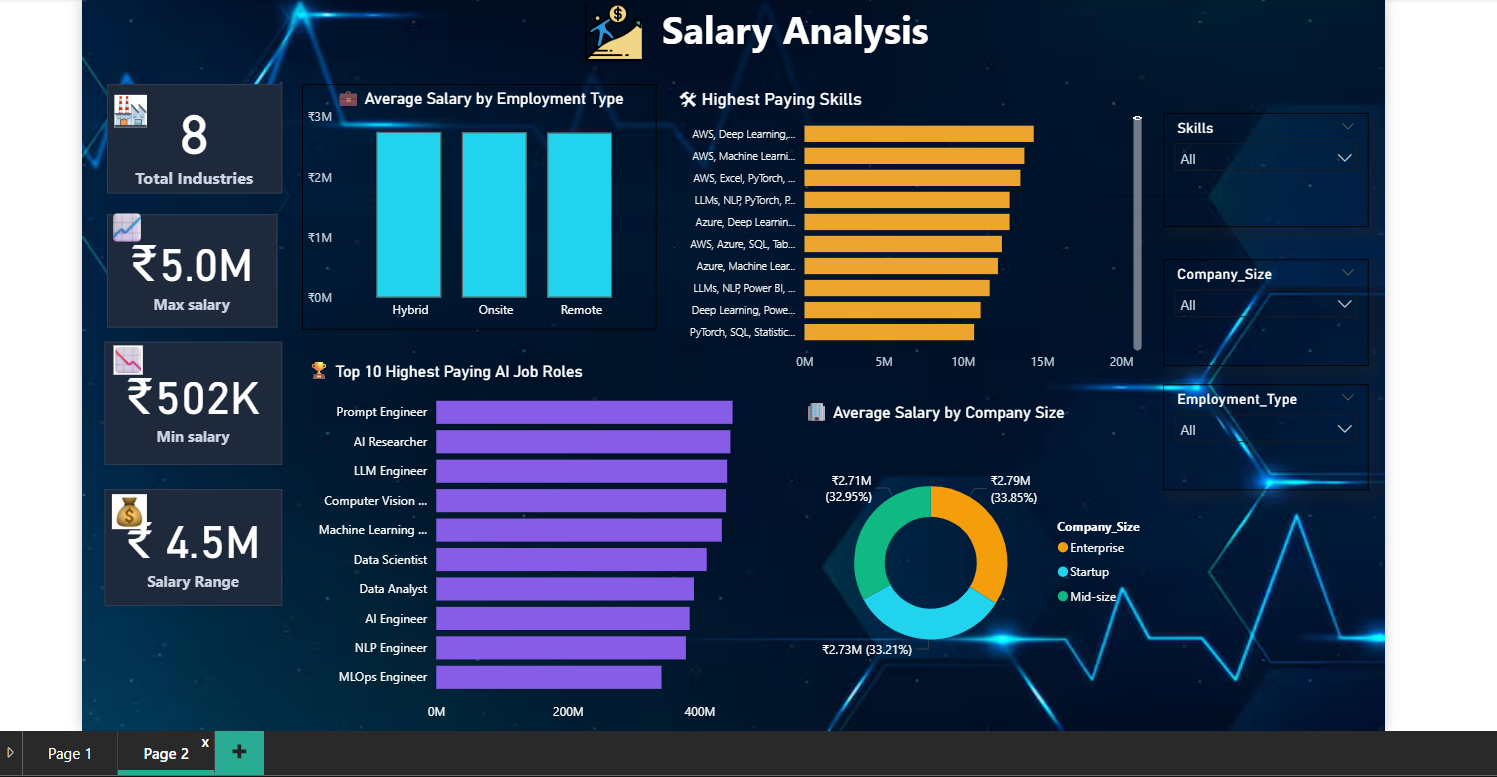

Layout of this report page (visuals, bound fields, positions):
{"tool":"powerbi","page":{"name":"Page 2","canvas":[1280,720],"ordinal":1},"visuals":[{"type":"textbox","box":[564.4,0,319,61.4],"z":0},{"type":"image","box":[487.1,0,68.7,67.5],"z":1000},{"type":"card","fields":{"Values":["AI_Job_Market_No_Duplicates_1500_Rows.Max salary"]},"box":[24.2,212.7,166.9,110.8],"z":2000},{"type":"card","fields":{"Values":["AI_Job_Market_No_Duplicates_1500_Rows.Min salary"]},"box":[21.7,337.6,174.5,121],"z":3000},{"type":"card","fields":{"Values":["AI_Job_Market_No_Duplicates_1500_Rows.Salary Range"]},"box":[21.7,482.8,174.5,114.7],"z":4000},{"type":"card","fields":{"Values":["AI_Job_Market_No_Duplicates_1500_Rows.Total Industries"]},"box":[24.2,84.1,172,107],"z":5000},{"type":"image","box":[21.7,205.1,44.6,40.8],"z":6000},{"type":"image","box":[24.2,336.3,42,38.2],"z":7000},{"type":"image","box":[24.5,482.2,44.2,44.2],"z":8000},{"type":"image","box":[26.8,84.1,42,53.5],"z":9000},{"type":"clusteredColumnChart","title":"💼 Average Salary by Employment Type","fields":{"Category":["AI_Job_Market_No_Duplicates_1500_Rows.Employment_Type"],"Y":["AI_Job_Market_No_Duplicates_1500_Rows.Avg Salary"]},"box":[216.6,84.1,347.8,240.8],"z":10000},{"type":"clusteredBarChart","title":"🛠 Highest Paying Skills","fields":{"Category":["AI_Job_Market_No_Duplicates_1500_Rows.Skills"],"Y":["Sum(AI_Job_Market_No_Duplicates_1500_Rows.Salary_INR)"]},"box":[580.9,84.1,465,290.4],"z":11000},{"type":"donutChart","title":"🏢 Average Salary by Company Size","fields":{"Category":["AI_Job_Market_No_Duplicates_1500_Rows.Company_Size"],"Y":["Sum(AI_Job_Market_No_Duplicates_1500_Rows.Salary_INR)"]},"box":[601.3,393.6,459.9,291.7],"z":12000},{"type":"clusteredBarChart","title":"🏆 Top 10 Highest Paying AI Job Roles","fields":{"Y":["Sum(AI_Job_Market_No_Duplicates_1500_Rows.Salary_INR)"],"Category":["AI_Job_Market_No_Duplicates_1500_Rows.Job_Title"]},"box":[216.6,352.9,393.6,366.9],"z":13000},{"type":"slicer","fields":{"Values":["AI_Job_Market_No_Duplicates_1500_Rows.Skills"]},"box":[1061.1,113.4,201.3,112.1],"z":14000},{"type":"slicer","fields":{"Values":["AI_Job_Market_No_Duplicates_1500_Rows.Company_Size"]},"box":[1061.1,256.1,201.3,104.5],"z":15000},{"type":"slicer","fields":{"Values":["AI_Job_Market_No_Duplicates_1500_Rows.Employment_Type"]},"box":[1061.1,398.7,201.3,104.5],"z":16000}]}

Visuals, with their boxes on the page's 1280x720 design canvas (x1, y1, x2, y2). These are canvas units, not pixel positions in the 1497x777 screenshot, which may show the page scaled, cropped or inside an application window:
textbox: [x1=564, y1=0, x2=883, y2=61]
image: [x1=487, y1=0, x2=556, y2=68]
card - AI_Job_Market_No_Duplicates_1500_Rows.Max salary: [x1=24, y1=213, x2=191, y2=324]
card - AI_Job_Market_No_Duplicates_1500_Rows.Min salary: [x1=22, y1=338, x2=196, y2=459]
card - AI_Job_Market_No_Duplicates_1500_Rows.Salary Range: [x1=22, y1=483, x2=196, y2=598]
card - AI_Job_Market_No_Duplicates_1500_Rows.Total Industries: [x1=24, y1=84, x2=196, y2=191]
image: [x1=22, y1=205, x2=66, y2=246]
image: [x1=24, y1=336, x2=66, y2=374]
image: [x1=24, y1=482, x2=69, y2=526]
image: [x1=27, y1=84, x2=69, y2=138]
"💼 Average Salary by Employment Type" clusteredColumnChart: [x1=217, y1=84, x2=564, y2=325]
"🛠 Highest Paying Skills" clusteredBarChart: [x1=581, y1=84, x2=1046, y2=374]
"🏢 Average Salary by Company Size" donutChart: [x1=601, y1=394, x2=1061, y2=685]
"🏆 Top 10 Highest Paying AI Job Roles" clusteredBarChart: [x1=217, y1=353, x2=610, y2=720]
slicer - AI_Job_Market_No_Duplicates_1500_Rows.Skills: [x1=1061, y1=113, x2=1262, y2=226]
slicer - AI_Job_Market_No_Duplicates_1500_Rows.Company_Size: [x1=1061, y1=256, x2=1262, y2=361]
slicer - AI_Job_Market_No_Duplicates_1500_Rows.Employment_Type: [x1=1061, y1=399, x2=1262, y2=503]
